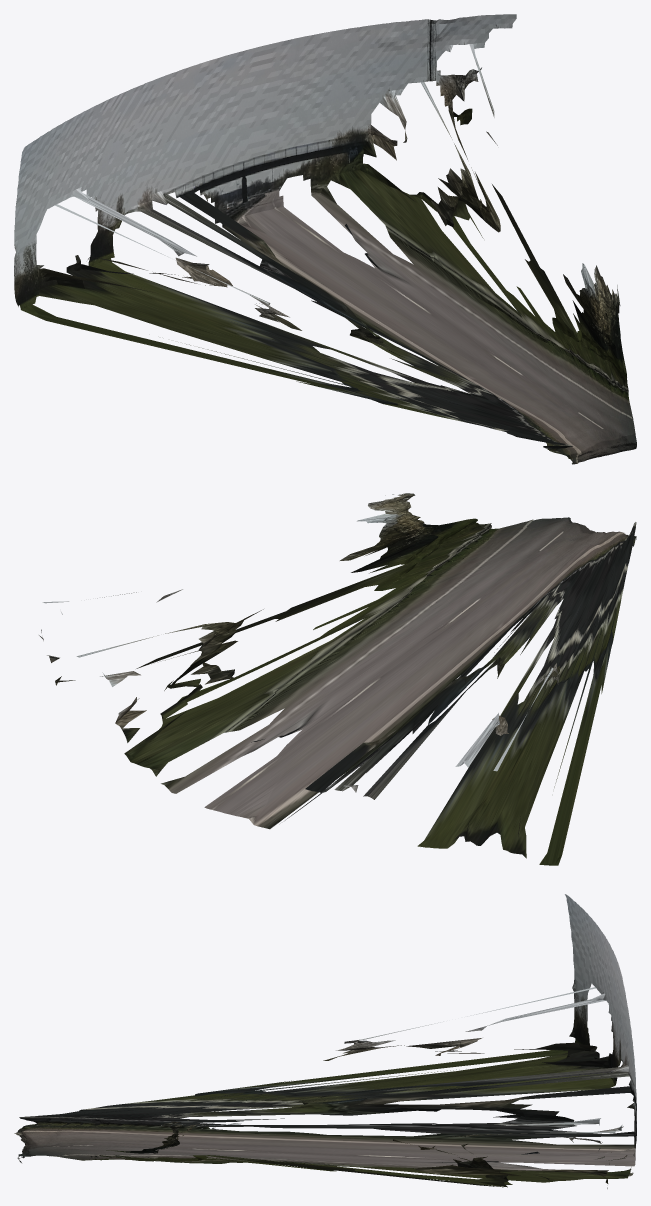
3 views of the same model, one above another, from view 1: azimuth 30°, elevation 25°; view 2: azimuth 150°, elevation 25°; view 3: azimuth 270°, elevation 25° (orthographic). The views are drawn at different scales.
Visible parts, largest first — view 1: defaultobject; view 2: defaultobject; view 3: defaultobject.
Boxes of the visible parts, x1,y1,x2,y2 form: defaultobject: [14, 14, 636, 464]; defaultobject: [39, 493, 636, 865]; defaultobject: [14, 894, 636, 1188].
Bounding box in the file's own units: 37.55 × 12.84 × 44.72.
1 material, 1 textured.
